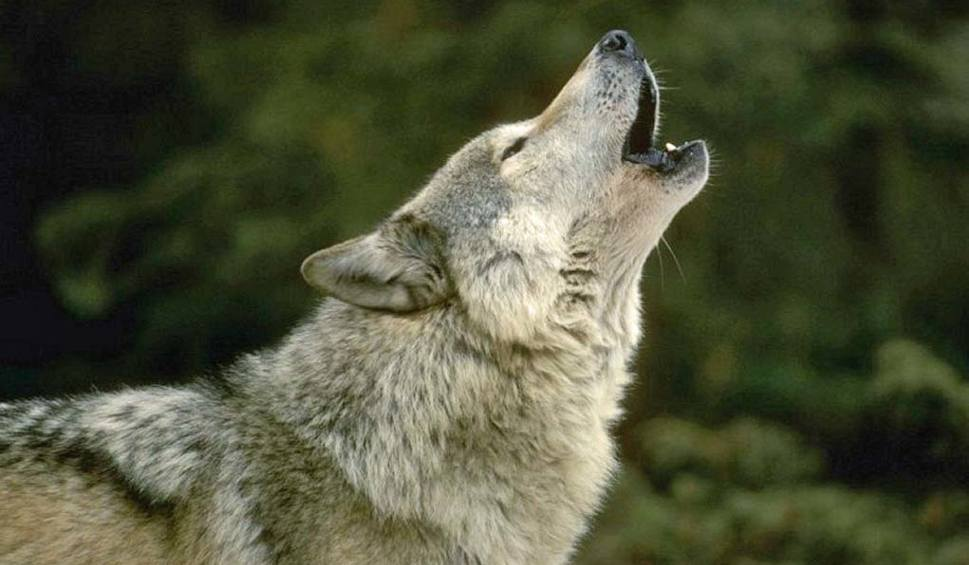wolf: (5, 42, 727, 565)
